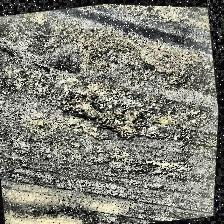pothole: (53, 77, 161, 155)
